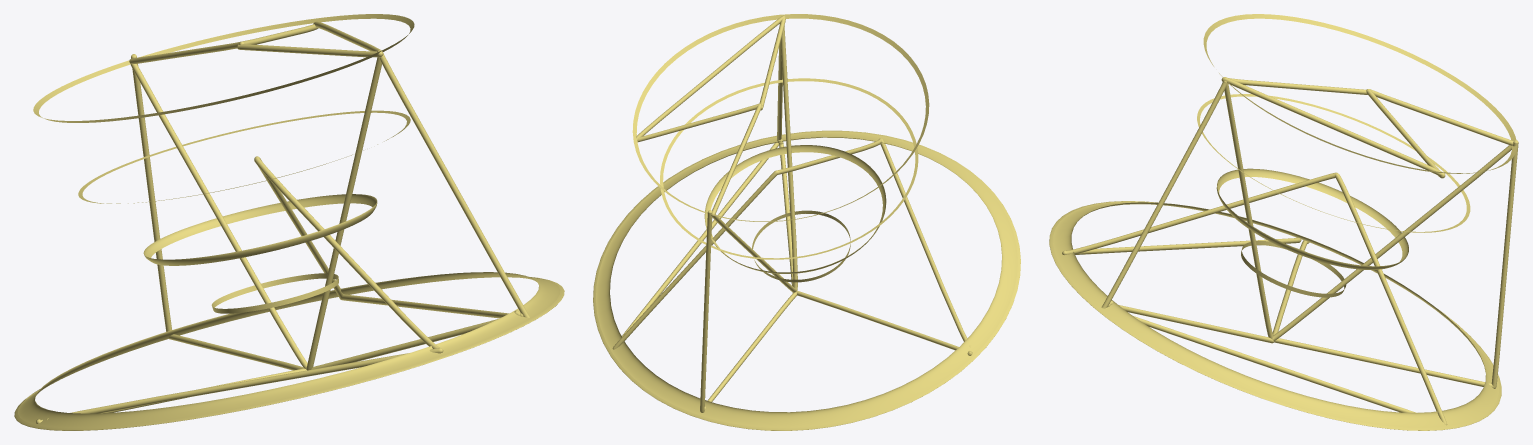
The model's file is cosmic_widget.glb.
3 views of the same model, side by side, from view 1: azimuth 30°, elevation 25°; view 2: azimuth 150°, elevation 25°; view 3: azimuth 270°, elevation 25° (orthographic). The views are drawn at different scales.
Parts seen in each view (by area): view 1: s.326676, r.326662, r.326666, r.326668, s.326677, r.326663, r.326667, s.326679; view 2: r.326662, s.326676, r.326668, s.326677, r.326666, r.326667, r.326663, s.326679; view 3: s.326676, r.326662, s.326677, r.326666, r.326668, r.326667, s.326679, r.326663.
Boxes of the visible parts, x1,y1,x2,y2 form: s.326676: [46, 21, 529, 419]; r.326662: [14, 272, 564, 430]; r.326666: [143, 194, 377, 265]; r.326668: [33, 14, 414, 122]; s.326677: [36, 54, 306, 423]; r.326663: [211, 273, 338, 313]; r.326667: [78, 110, 410, 203]; s.326679: [311, 310, 523, 369]; r.326662: [593, 130, 1020, 430]; s.326676: [612, 15, 971, 349]; r.326668: [632, 14, 929, 221]; s.326677: [700, 210, 972, 412]; r.326666: [704, 145, 886, 273]; r.326667: [660, 78, 918, 259]; r.326663: [752, 210, 850, 282]; s.326679: [777, 139, 793, 292]; s.326676: [1062, 77, 1513, 425]; r.326662: [1049, 201, 1501, 430]; s.326677: [1272, 140, 1518, 388]; r.326666: [1216, 168, 1408, 269]; r.326668: [1203, 14, 1516, 173]; r.326667: [1197, 94, 1470, 232]; s.326679: [1108, 300, 1274, 343]; r.326663: [1241, 241, 1346, 297].
Bounding box in the file's own units: 1.21 × 0.9463 × 1.18.
